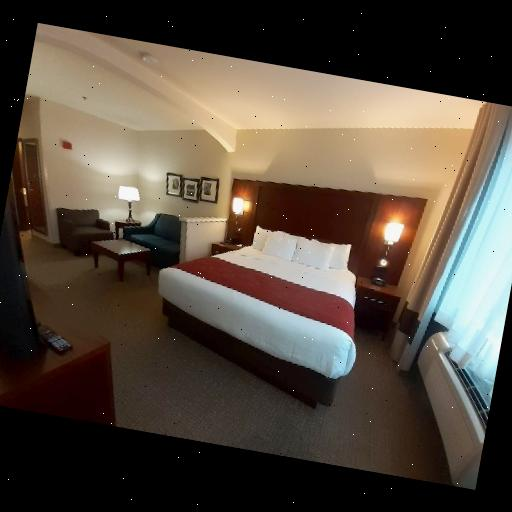clean_bed: (153, 176, 427, 412)
lamp: (110, 176, 144, 230)
organised_pillow: (248, 222, 361, 276)
organized table: (86, 233, 150, 279)
